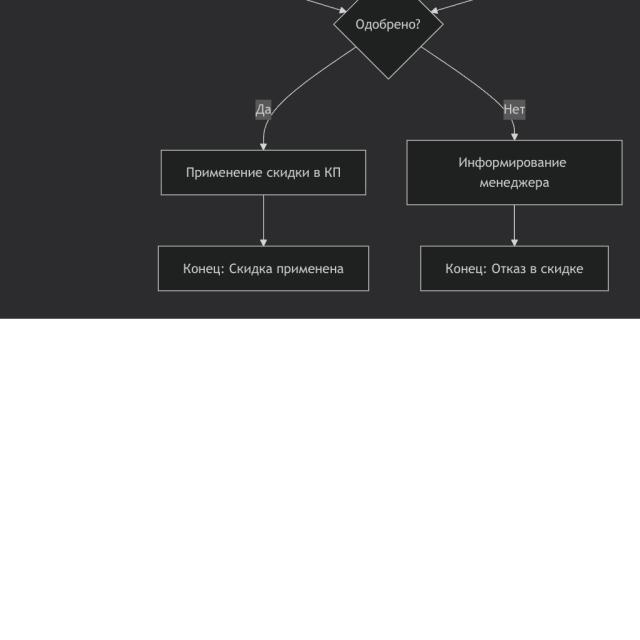arrow: (260, 46, 356, 149), (420, 47, 518, 140), (260, 196, 268, 246), (512, 208, 519, 245)
rectangle: (407, 140, 622, 205), (159, 246, 369, 291), (161, 150, 366, 195), (420, 246, 608, 291)
text_region: (503, 100, 527, 120), (255, 101, 271, 121)
